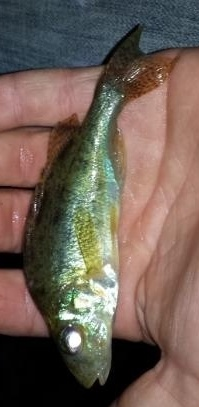Gymnocephalus cernuus: (20, 20, 179, 387)
